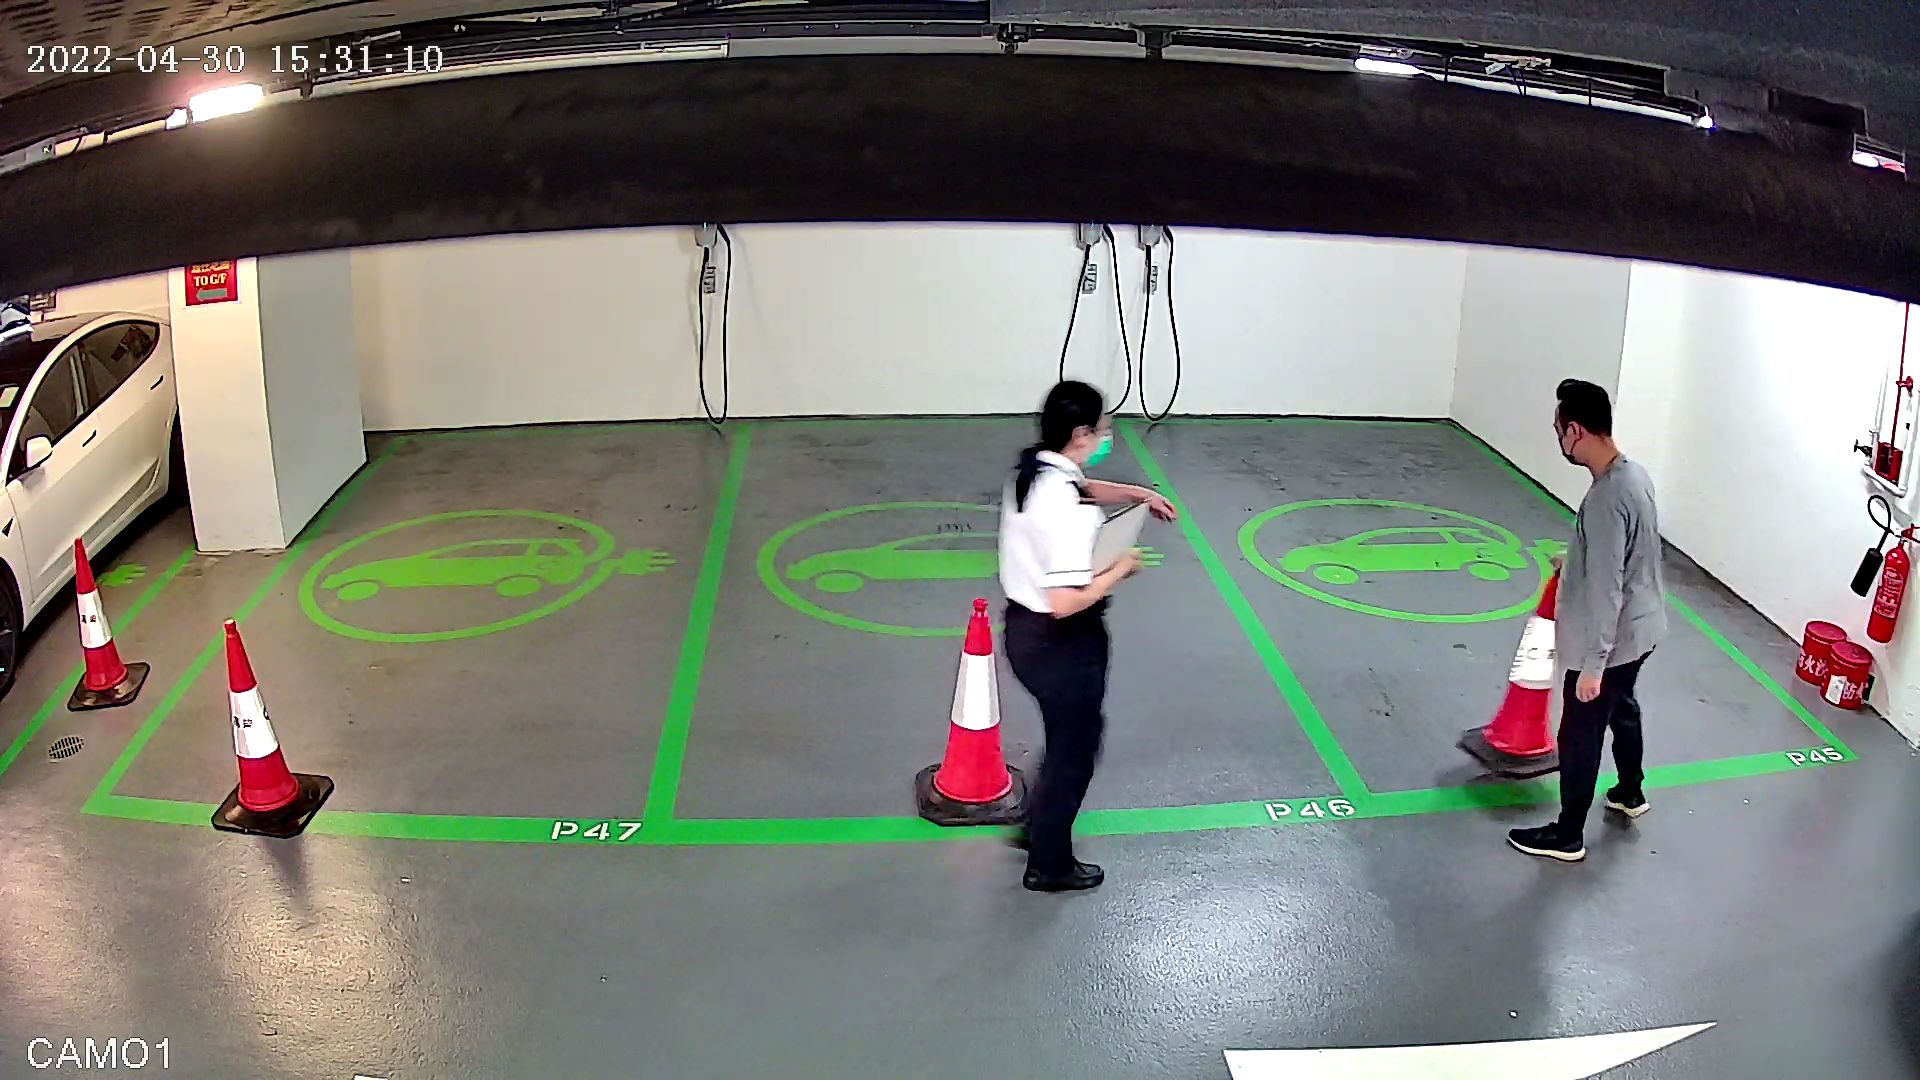space: (601, 357, 1396, 913), (1071, 353, 1894, 857), (62, 382, 777, 928)
